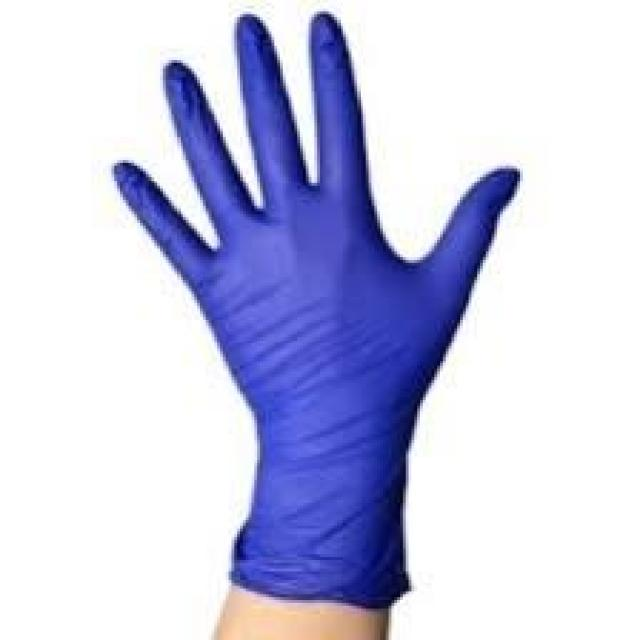Glove: (109, 0, 537, 609)
